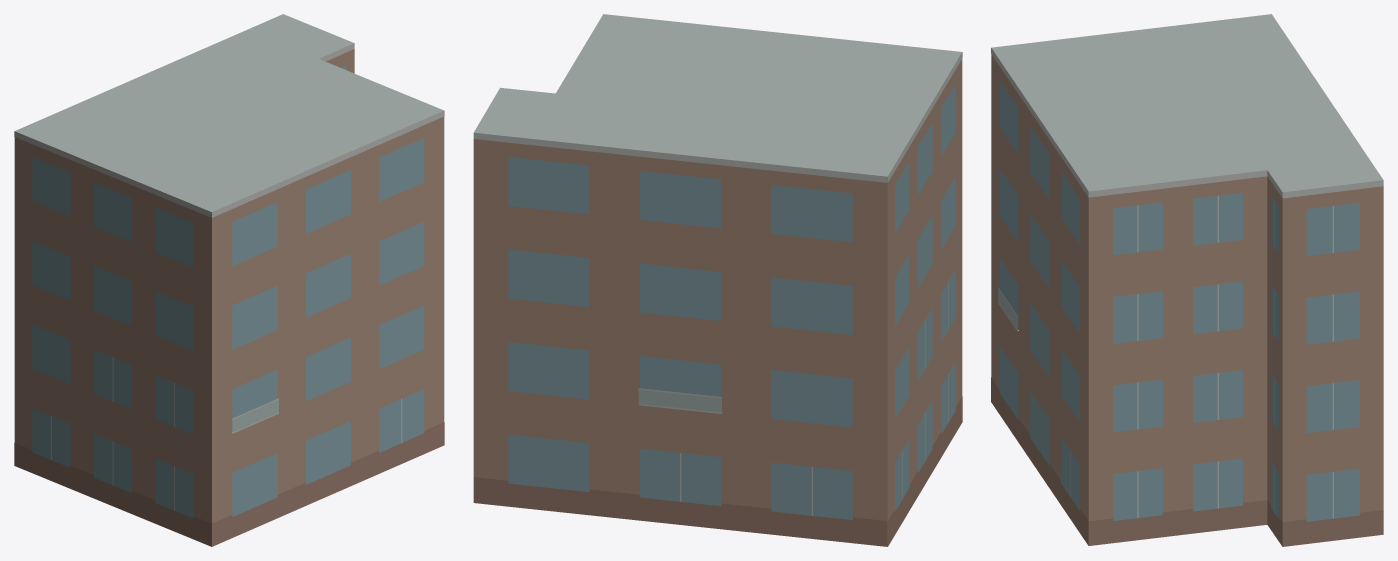
The model's file is survey-upis-32624702.glb.
The picture shows the model from 3 angles, left to right: view 1: azimuth 30°, elevation 25°; view 2: azimuth 150°, elevation 25°; view 3: azimuth 270°, elevation 25°; orthographic projection. The views are drawn at different scales.
Visible parts, largest first — view 1: survey-upis-32624702.tmp; view 2: survey-upis-32624702.tmp; view 3: survey-upis-32624702.tmp.
Boxes of the visible parts, bbox=[...] form: survey-upis-32624702.tmp: bbox=[14, 14, 444, 546]; survey-upis-32624702.tmp: bbox=[473, 14, 962, 546]; survey-upis-32624702.tmp: bbox=[991, 14, 1383, 546].
Size of the model in its own units: 15.56 by 14.4 by 14.46.
